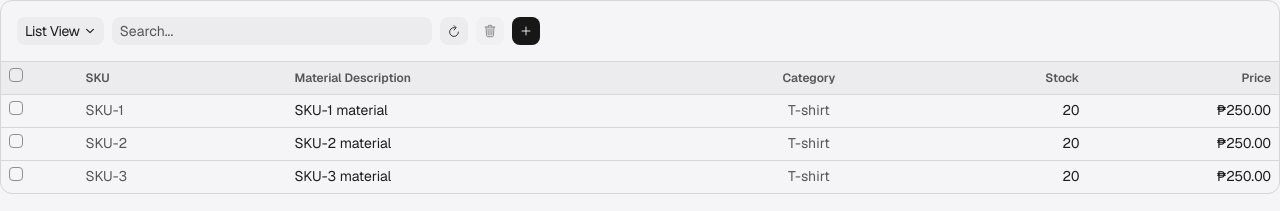
it: InventoryTable — ticking rows › unticking the header box clears the whole selection
Step 1. Click the checkbox named "select all stock items" → (16, 75), box [9,68,23,82]
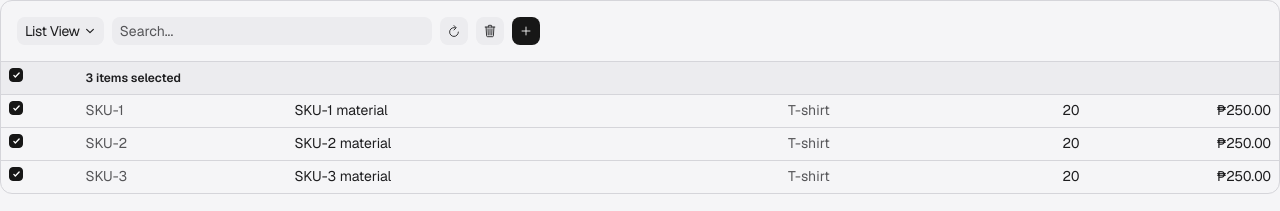
Step 2. Click the checkbox named "select all stock items" → (16, 75), box [9,68,23,82]
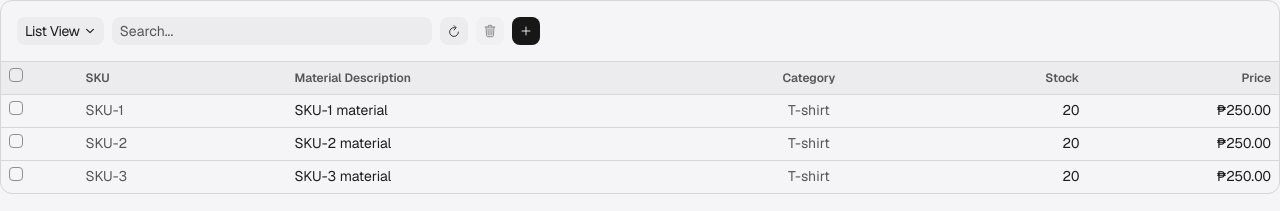
Check: the button named "delete" is disabled, box [476,17,504,45]
Check: the checkbox named "Select SKU-1" is not checked, box [9,101,23,115]
